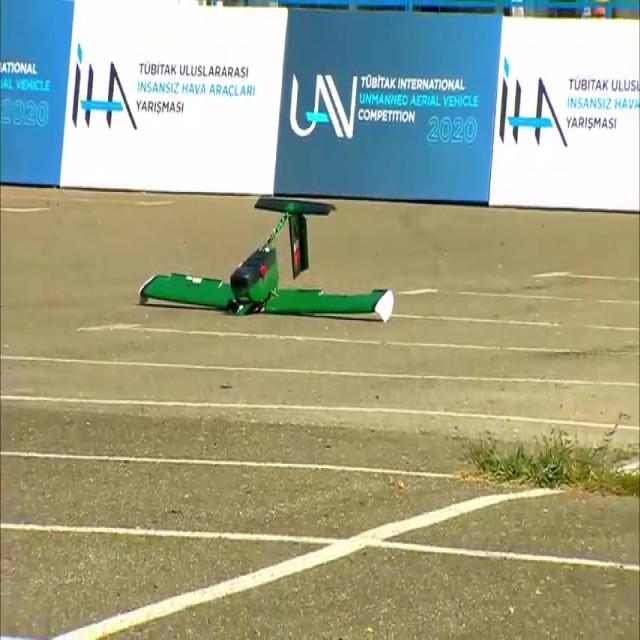iha: (131, 196, 388, 324)
